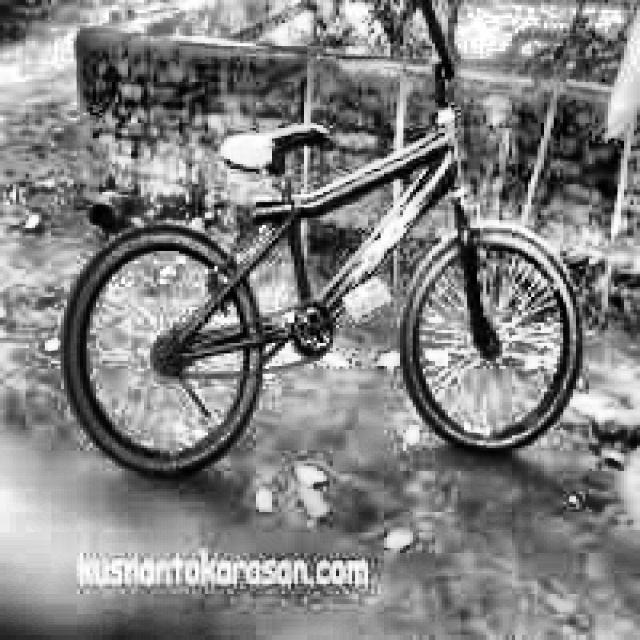bike: (61, 70, 600, 486)
